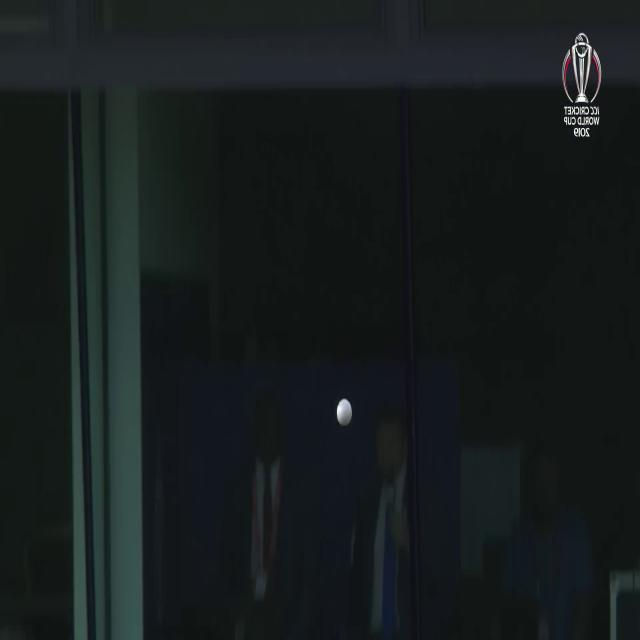ball: (329, 391, 358, 437)
